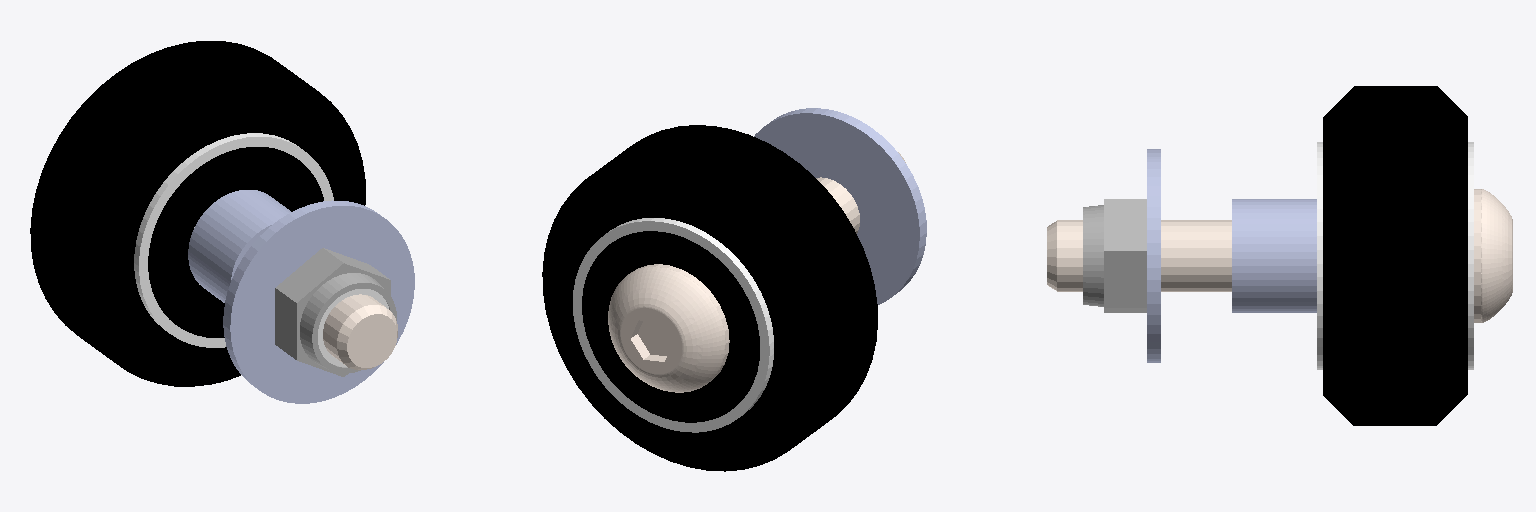
Rendered from DelrinWheelAssy.obj.
The picture shows the model from 3 angles: view 1: azimuth 30°, elevation 25°; view 2: azimuth 150°, elevation 25°; view 3: azimuth 270°, elevation 25°; orthographic projection.
Visible parts, largest first — view 1: Root|Delrin_Solid_Wheel_Assembly_(Default)|Default|white_low_glo, Root|Delrin_Solid_Wheel_Assembly_(Default)|Default|color, Root|Delrin_Solid_Wheel_Assembly_(Default)|Default|satin_finish_, Root|Delrin_Solid_Wheel_Assembly_(Default)|Default|polished_stee; view 2: Root|Delrin_Solid_Wheel_Assembly_(Default)|Default|white_low_glo, Root|Delrin_Solid_Wheel_Assembly_(Default)|Default|satin_finish_, Root|Delrin_Solid_Wheel_Assembly_(Default)|Default|color, Root|Delrin_Solid_Wheel_Assembly_(Default)|Default|polished_stee; view 3: Root|Delrin_Solid_Wheel_Assembly_(Default)|Default|white_low_glo, Root|Delrin_Solid_Wheel_Assembly_(Default)|Default|color, Root|Delrin_Solid_Wheel_Assembly_(Default)|Default|satin_finish_, Root|Delrin_Solid_Wheel_Assembly_(Default)|Default|polished_stee.
Part boxes in pixels (x1,y1,x2,y2): Root|Delrin_Solid_Wheel_Assembly_(Default)|Default|white_low_glo: (30, 41, 365, 386); Root|Delrin_Solid_Wheel_Assembly_(Default)|Default|color: (188, 190, 414, 403); Root|Delrin_Solid_Wheel_Assembly_(Default)|Default|satin_finish_: (148, 147, 397, 369); Root|Delrin_Solid_Wheel_Assembly_(Default)|Default|polished_stee: (134, 133, 396, 376); Root|Delrin_Solid_Wheel_Assembly_(Default)|Default|white_low_glo: (542, 125, 877, 471); Root|Delrin_Solid_Wheel_Assembly_(Default)|Default|satin_finish_: (582, 152, 905, 422); Root|Delrin_Solid_Wheel_Assembly_(Default)|Default|color: (754, 108, 926, 304); Root|Delrin_Solid_Wheel_Assembly_(Default)|Default|polished_stee: (573, 218, 773, 432); Root|Delrin_Solid_Wheel_Assembly_(Default)|Default|white_low_glo: (1323, 86, 1467, 425); Root|Delrin_Solid_Wheel_Assembly_(Default)|Default|color: (1147, 149, 1316, 362); Root|Delrin_Solid_Wheel_Assembly_(Default)|Default|satin_finish_: (1047, 189, 1512, 322); Root|Delrin_Solid_Wheel_Assembly_(Default)|Default|polished_stee: (1083, 142, 1473, 369).
Bounding box in the file's own units: 0.0239 × 0.0239 × 0.0327.